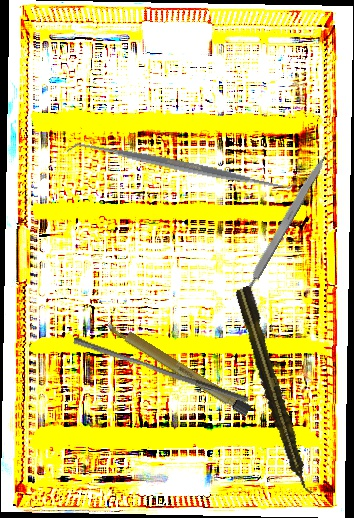Handpiece: (232, 284, 316, 499)
Pusher: (70, 336, 252, 404)
Scalpel Handle: (104, 318, 252, 417), (237, 152, 330, 299)
Spatula Surgical: (65, 130, 298, 203)
